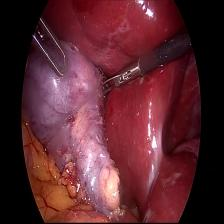Grasper: (31, 16, 72, 80), (98, 58, 146, 96)
